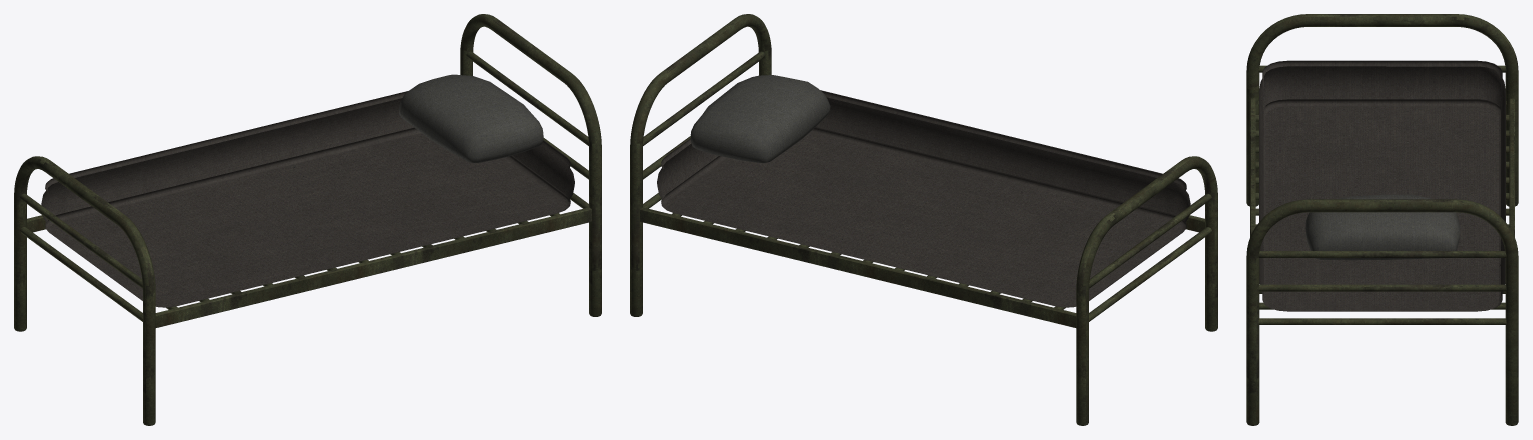
File: bed_1.glb
The picture shows the model from 3 angles, left to right: view 1: azimuth 30°, elevation 25°; view 2: azimuth 150°, elevation 25°; view 3: azimuth 270°, elevation 25°; orthographic projection.
Parts seen in each view (by area): view 1: bed_1; view 2: bed_1; view 3: bed_1.
Boxes of the visible parts, x1=… form: bed_1: x1=14, y1=14, x2=601, y2=425; bed_1: x1=630, y1=14, x2=1217, y2=425; bed_1: x1=1246, y1=14, x2=1518, y2=425.
Bounding box in the file's own units: 2.87 × 1.33 × 1.47.
Materials: 3 (3 with a texture image).
